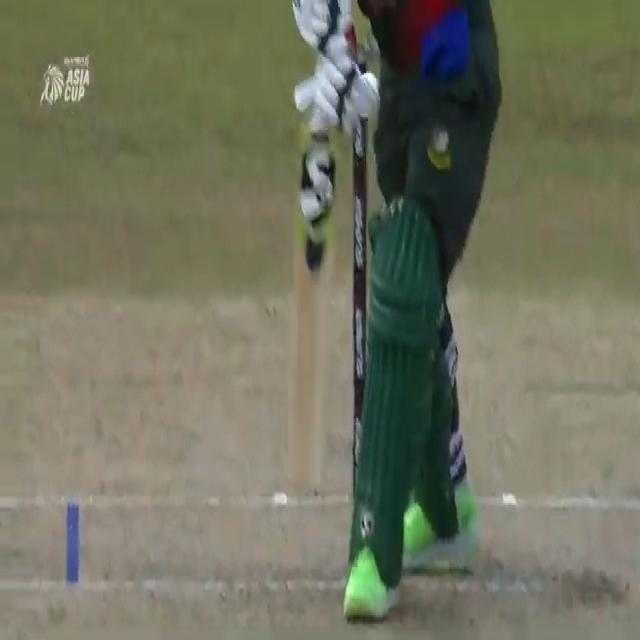Cricket ball: (363, 69, 385, 117)
